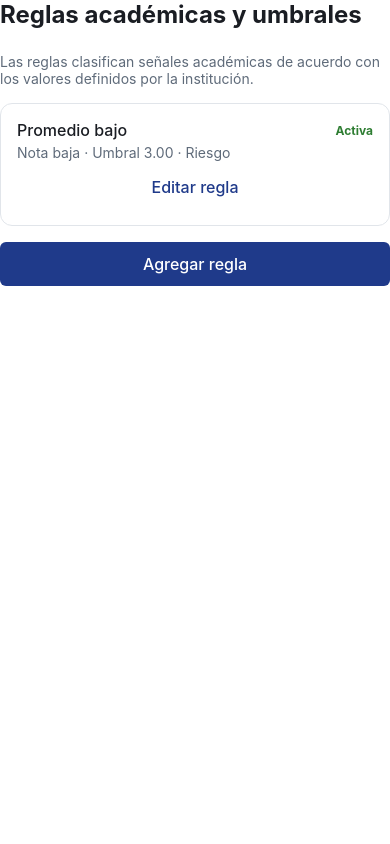
Test: administrador puede ajustar y guardar el umbral
Click the button "Editar regla": coordinates (195, 187) [17,165,373,209]
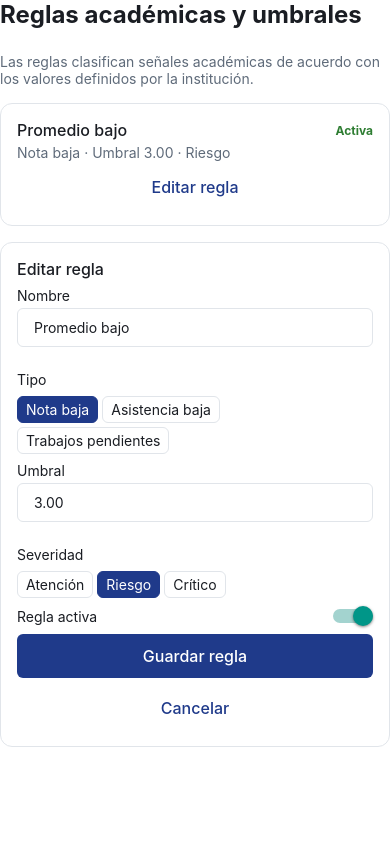
Replace the text in the field named "Umbral" with "3.25": coordinates (195, 502) [17,483,373,522]
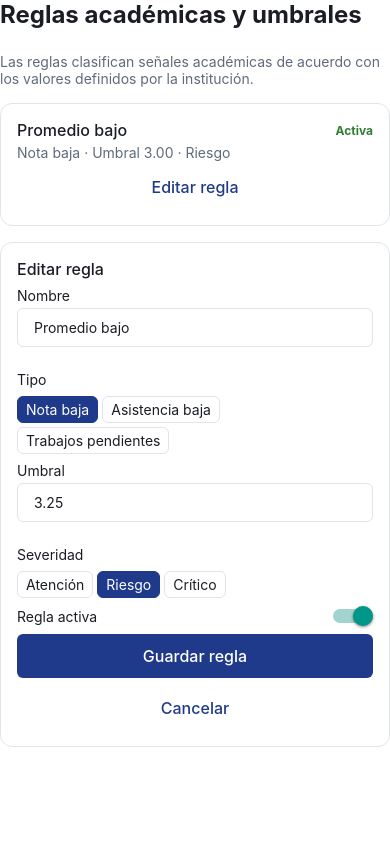
Click the button "Guardar regla": coordinates (195, 656) [17,634,373,678]
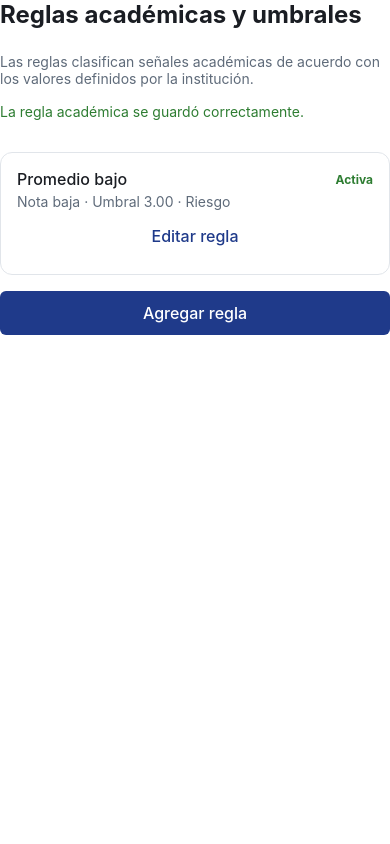
Now the text "La regla académica se guardó correctamente." is shown, box [0,103,304,120]
